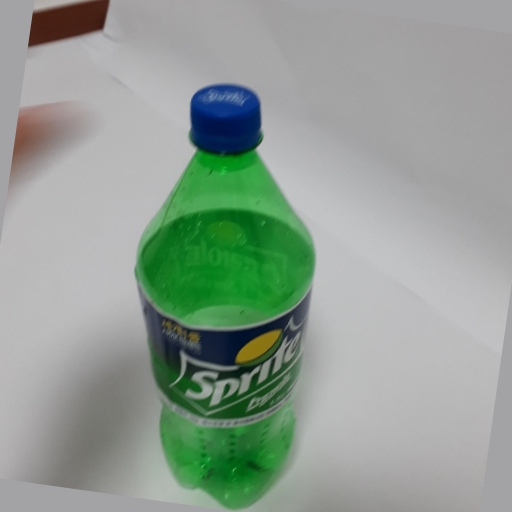Plastic_0: (134, 81, 319, 506)
